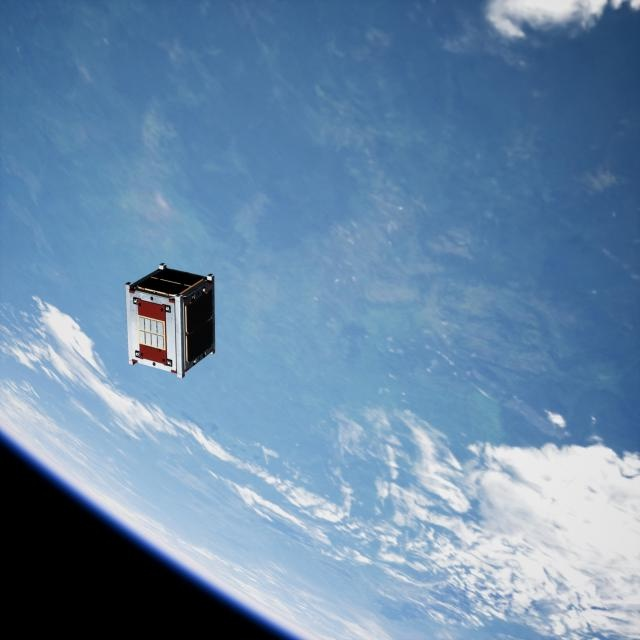satellite: (117, 265, 218, 377)
